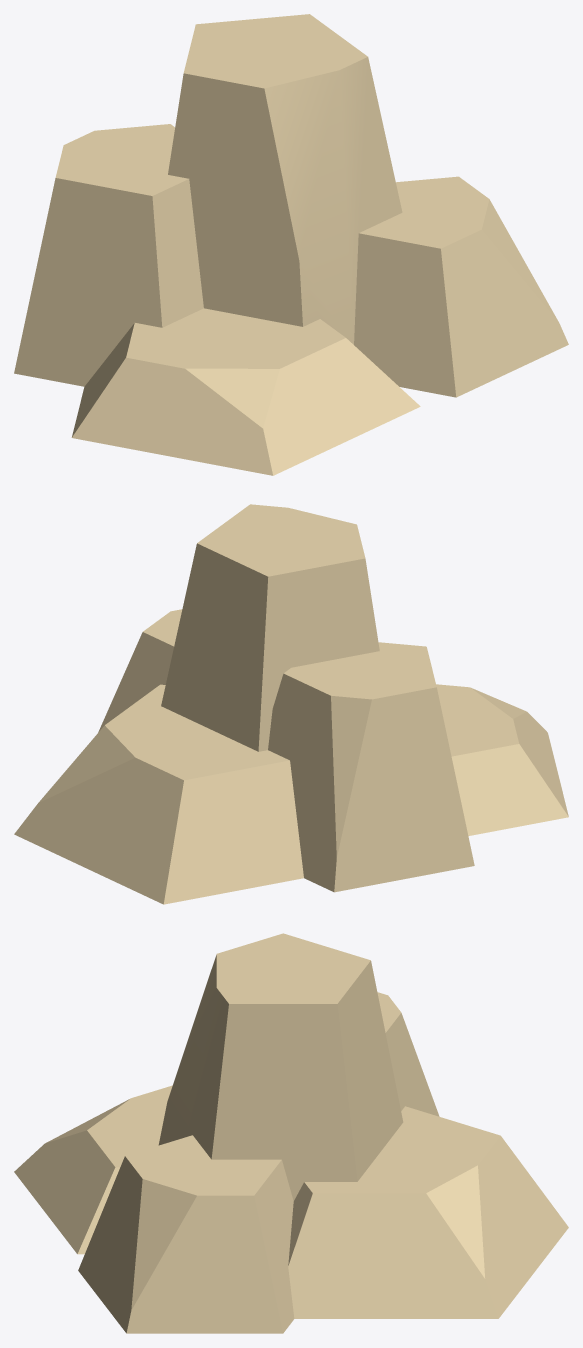
File: rockB.dae
The picture shows the model from 3 angles, top to bottom: view 1: azimuth 30°, elevation 25°; view 2: azimuth 150°, elevation 25°; view 3: azimuth 270°, elevation 25°; orthographic projection. The views are drawn at different scales.
Visible parts, largest first — view 1: rockB; view 2: rockB; view 3: rockB.
Boxes of the visible parts, box(x1,y1,x2,y2) form: rockB: box(14, 14, 568, 475); rockB: box(14, 504, 568, 904); rockB: box(14, 933, 568, 1333).
Bounding box in the file's own units: 2.9 × 1.67 × 3.2.
